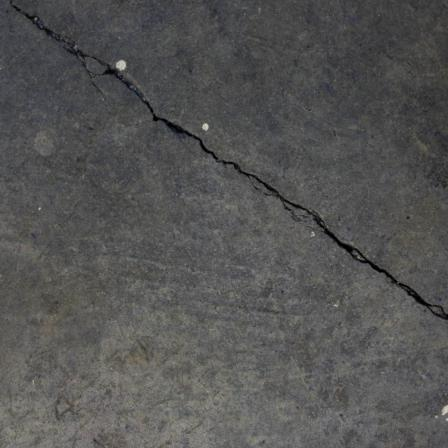crack: (0, 0, 448, 355)
